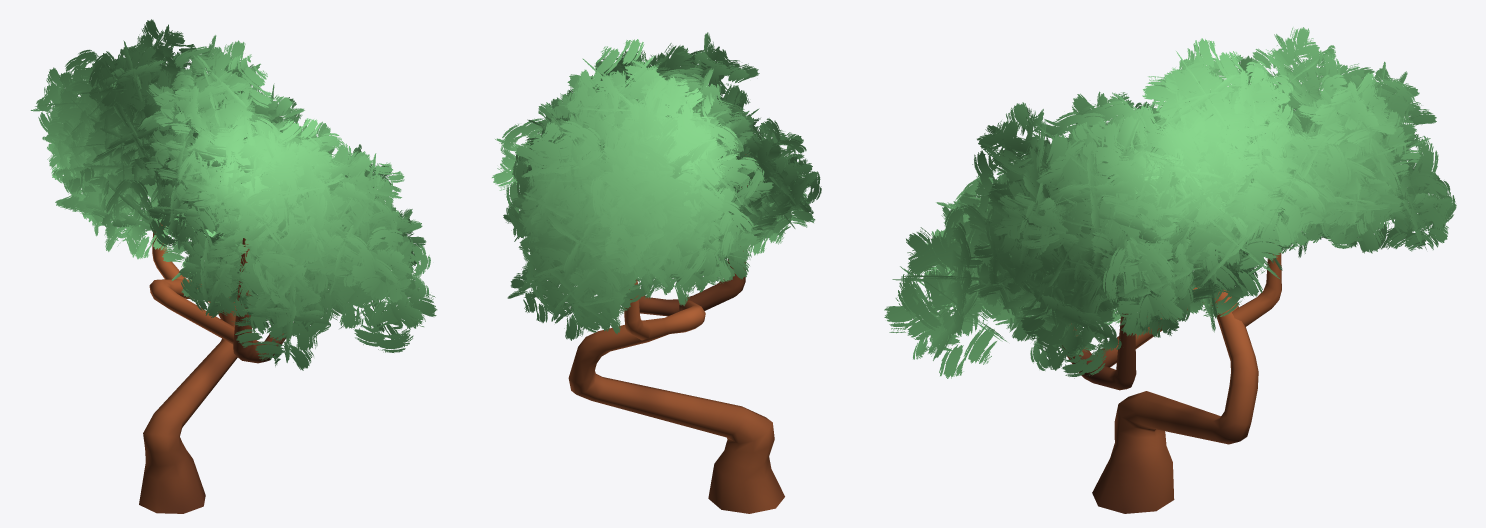
File: STSwiggly1.glb
3 renders of one model, left to right at view 1: azimuth 30°, elevation 25°; view 2: azimuth 150°, elevation 25°; view 3: azimuth 270°, elevation 25°, orthographic. The views are drawn at different scales.
Parts seen in each view (by area): view 1: Leaf.024; view 2: Leaf.024; view 3: Leaf.024.
Boxes of the visible parts, bbox=[...] form: Leaf.024: bbox=[30, 19, 437, 513]; Leaf.024: bbox=[492, 32, 821, 513]; Leaf.024: bbox=[884, 27, 1456, 513].
Size of the model in its own units: 4.46 by 5.99 by 6.46.
2 materials, 2 textured.
